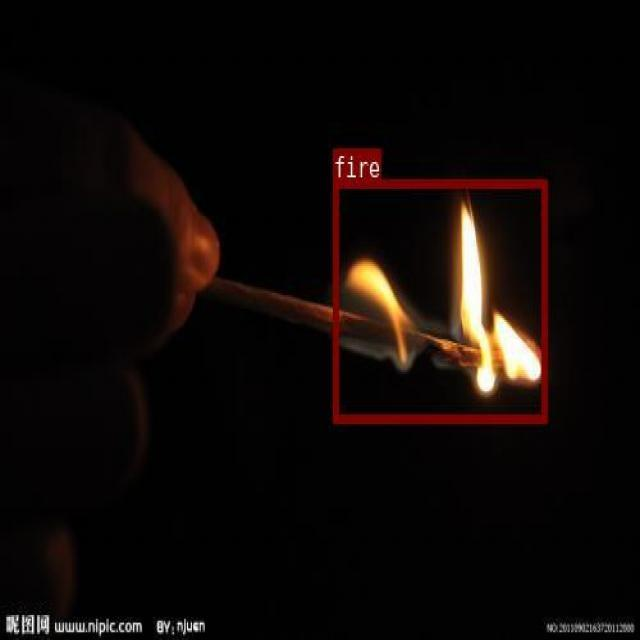fire: (332, 178, 546, 421)
